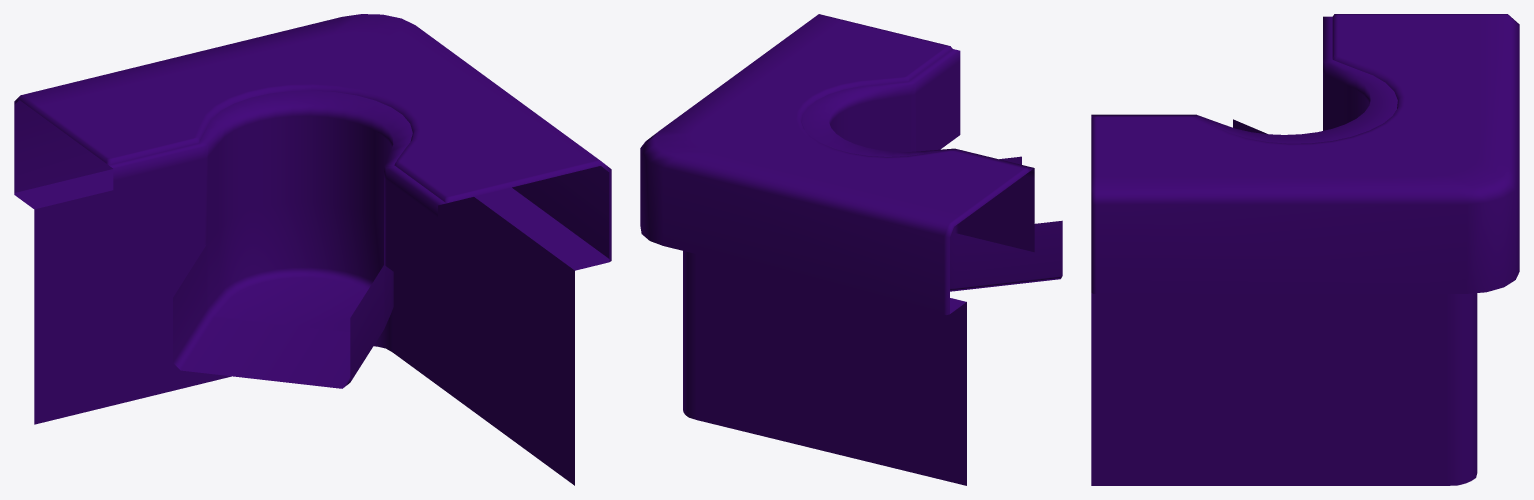
File: border_pocket_concave_a.fbx
The picture shows the model from 3 angles, left to right: view 1: azimuth 30°, elevation 25°; view 2: azimuth 150°, elevation 25°; view 3: azimuth 270°, elevation 25°; orthographic projection. The views are drawn at different scales.
Parts seen in each view (by area): view 1: lod0; view 2: lod0; view 3: lod0.
Boxes of the visible parts, x1,y1,x2,y2 form: lod0: (14,14,611,485); lod0: (640,14,1062,485); lod0: (1091,14,1519,485).
Bounding box in the file's own units: 11.1 × 8.85 × 11.1.
